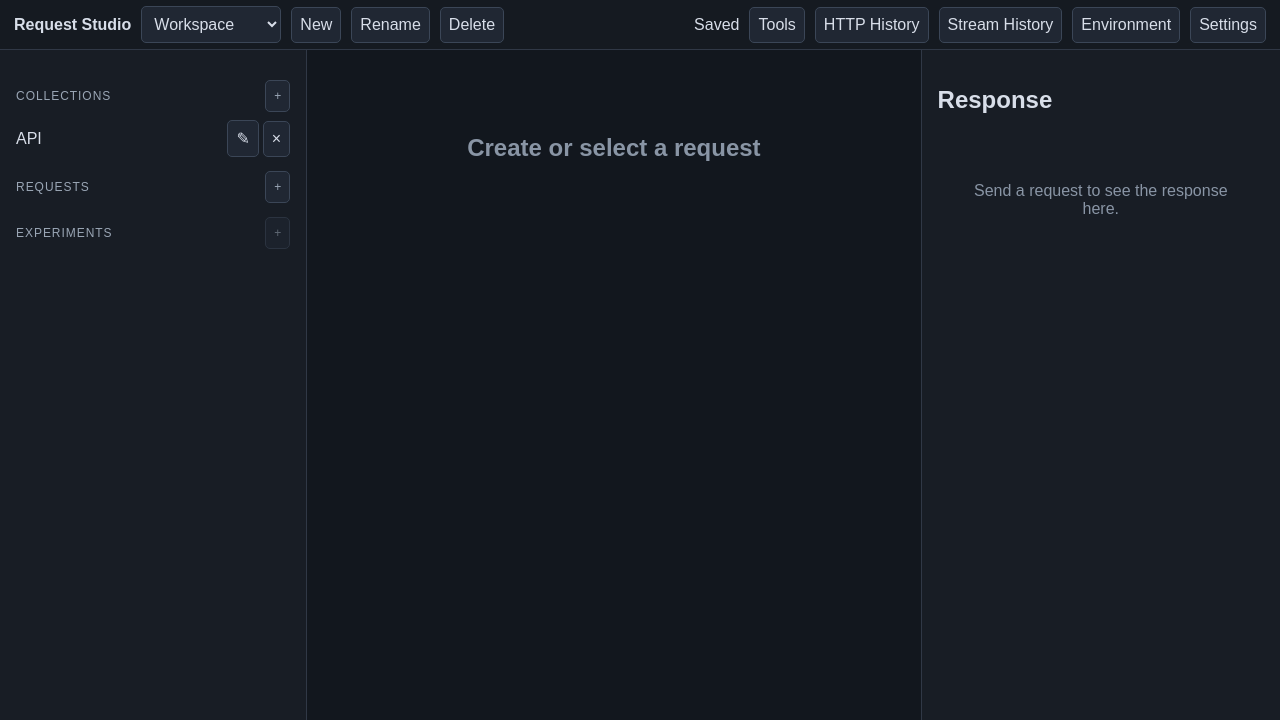
opens cURL Import from the Tools menu for the selected workspace
Expected: the text "API" is shown, [16, 130, 42, 146]
Click the button "Tools": (777, 24) [750, 6, 805, 42]
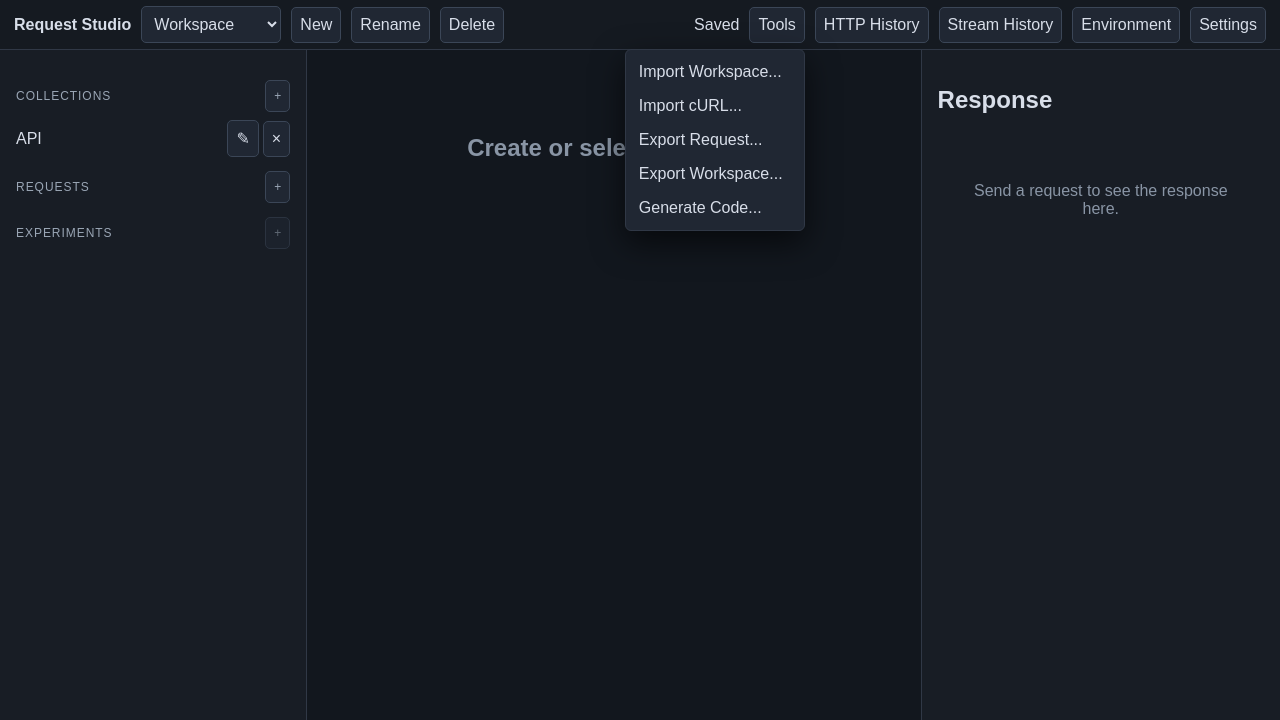
Click the menu item "Import cURL...": (715, 106) [631, 88, 799, 122]
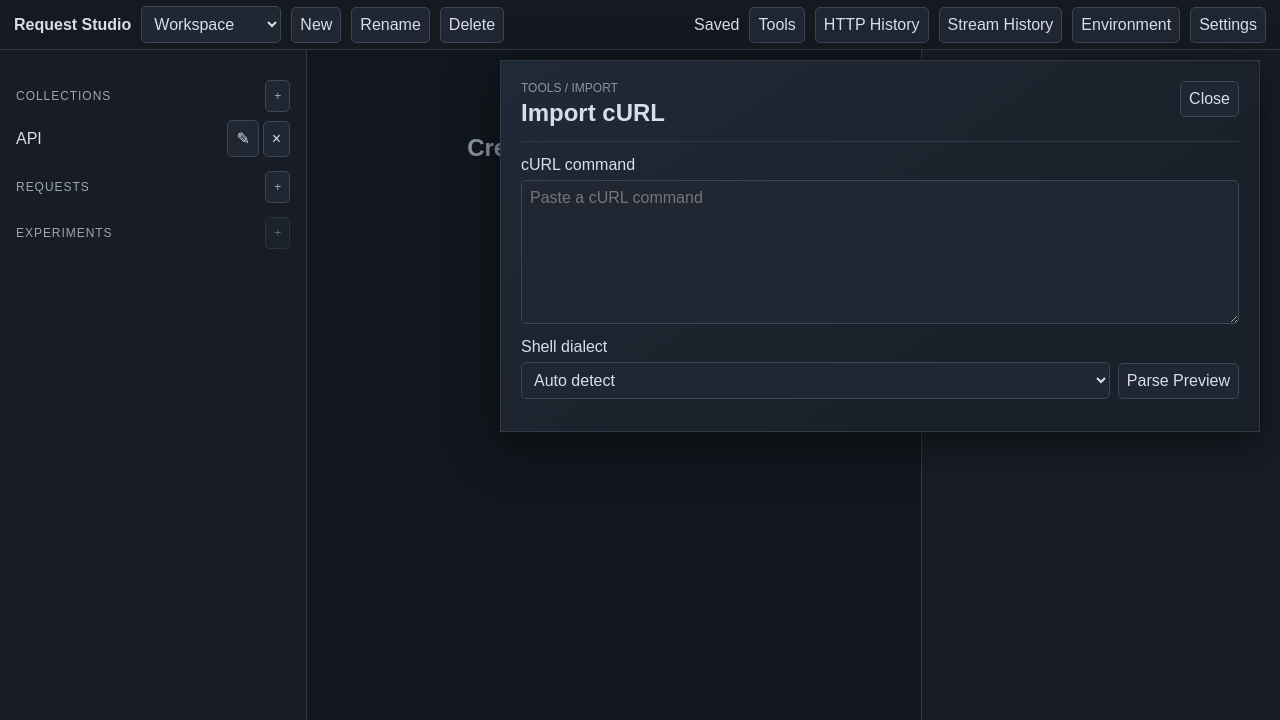
Expected: the heading "Import cURL" is shown, [521, 99, 665, 127]
Expected: the dialog is shown, [500, 60, 1260, 432]
